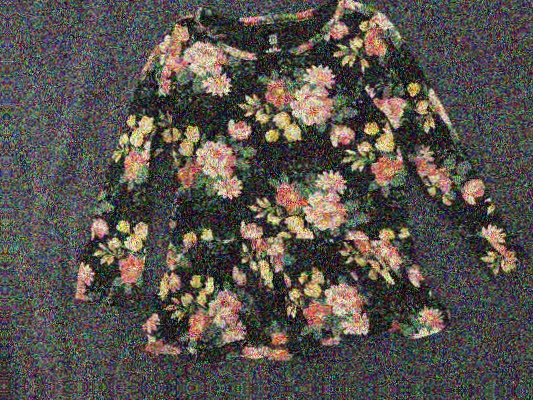Dress: (68, 0, 515, 377)
